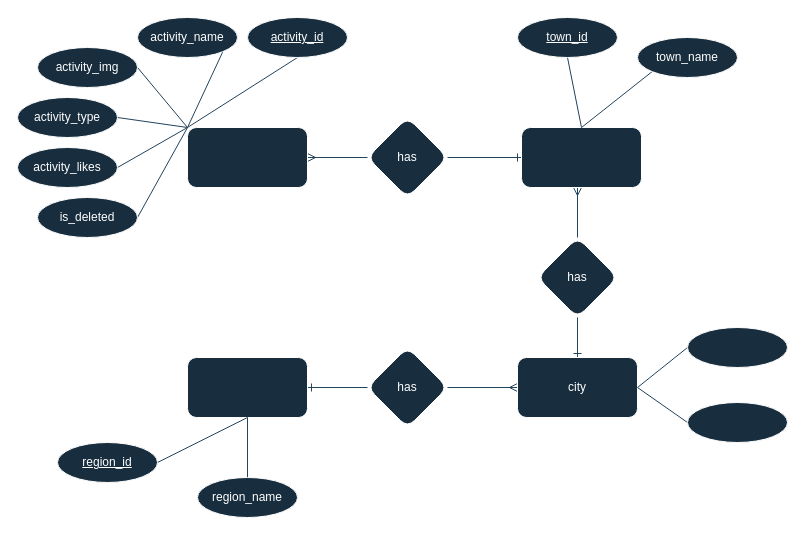
Image size: 805x535. Some labels were removed from this diagram. Each missing label, with the centre of its shape:
"activity" goes at (x=247, y=157).
"city_id" goes at (x=737, y=422).
"city_name" goes at (x=737, y=347).
"region" goes at (x=247, y=387).
"town" goes at (x=581, y=157).
